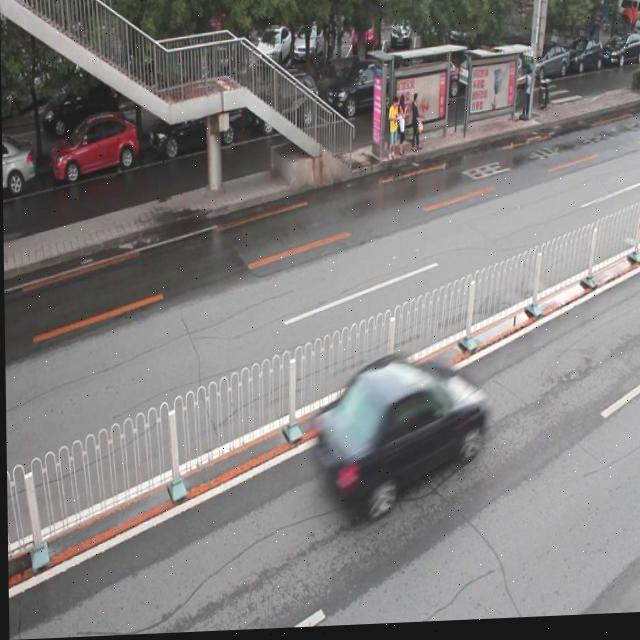car: (311, 360, 484, 518), (150, 92, 242, 159), (49, 116, 138, 185), (327, 61, 402, 124), (249, 74, 320, 140), (2, 137, 37, 200)
